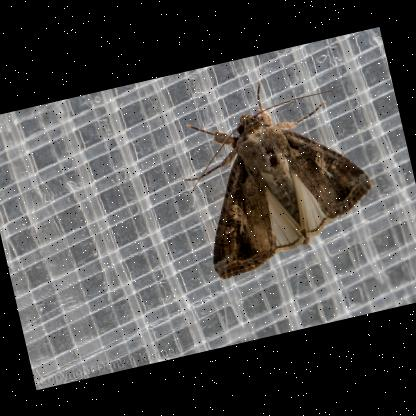Fall Armyworm Moth: (164, 58, 389, 285)
